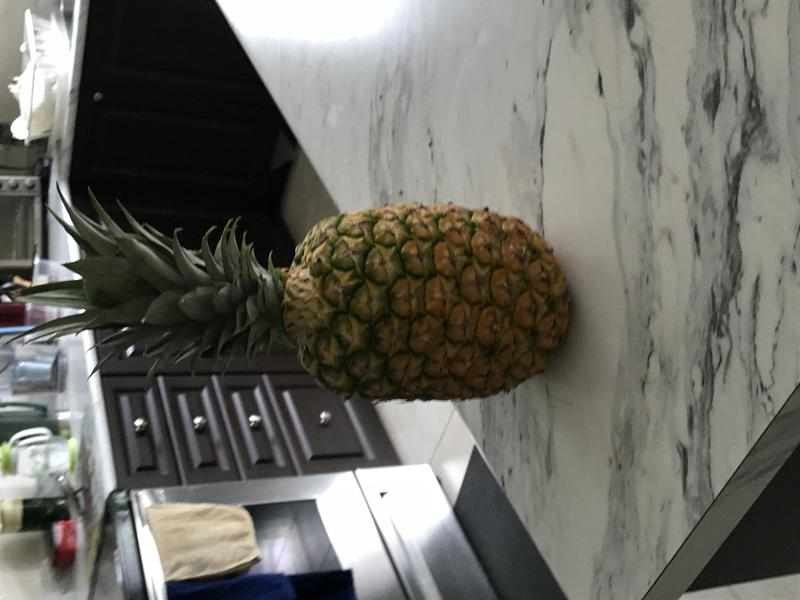pineapple: (10, 172, 580, 408)
